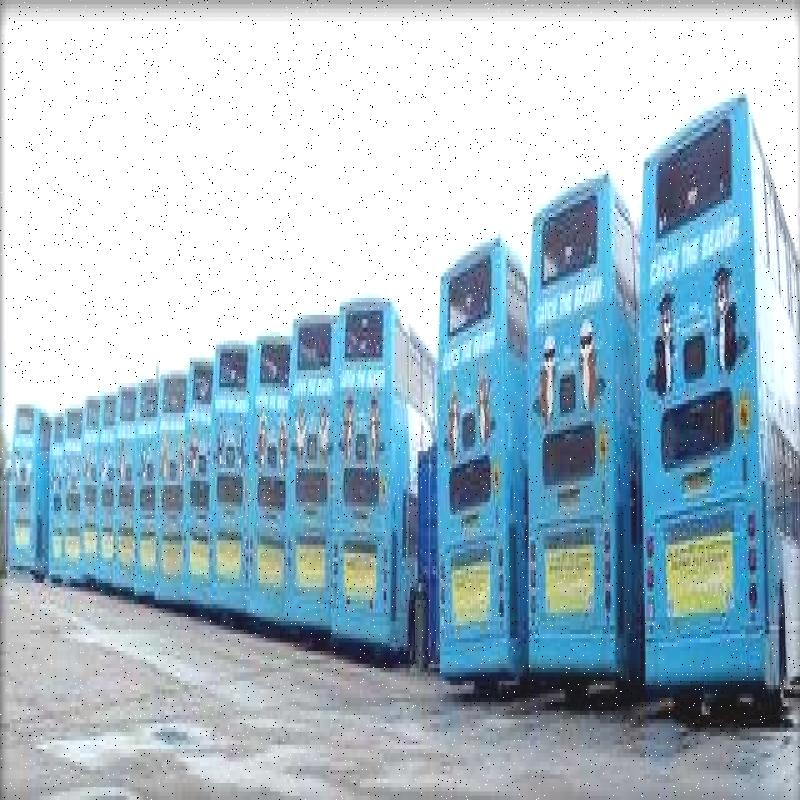bus: (528, 139, 625, 721), (423, 197, 518, 738)
